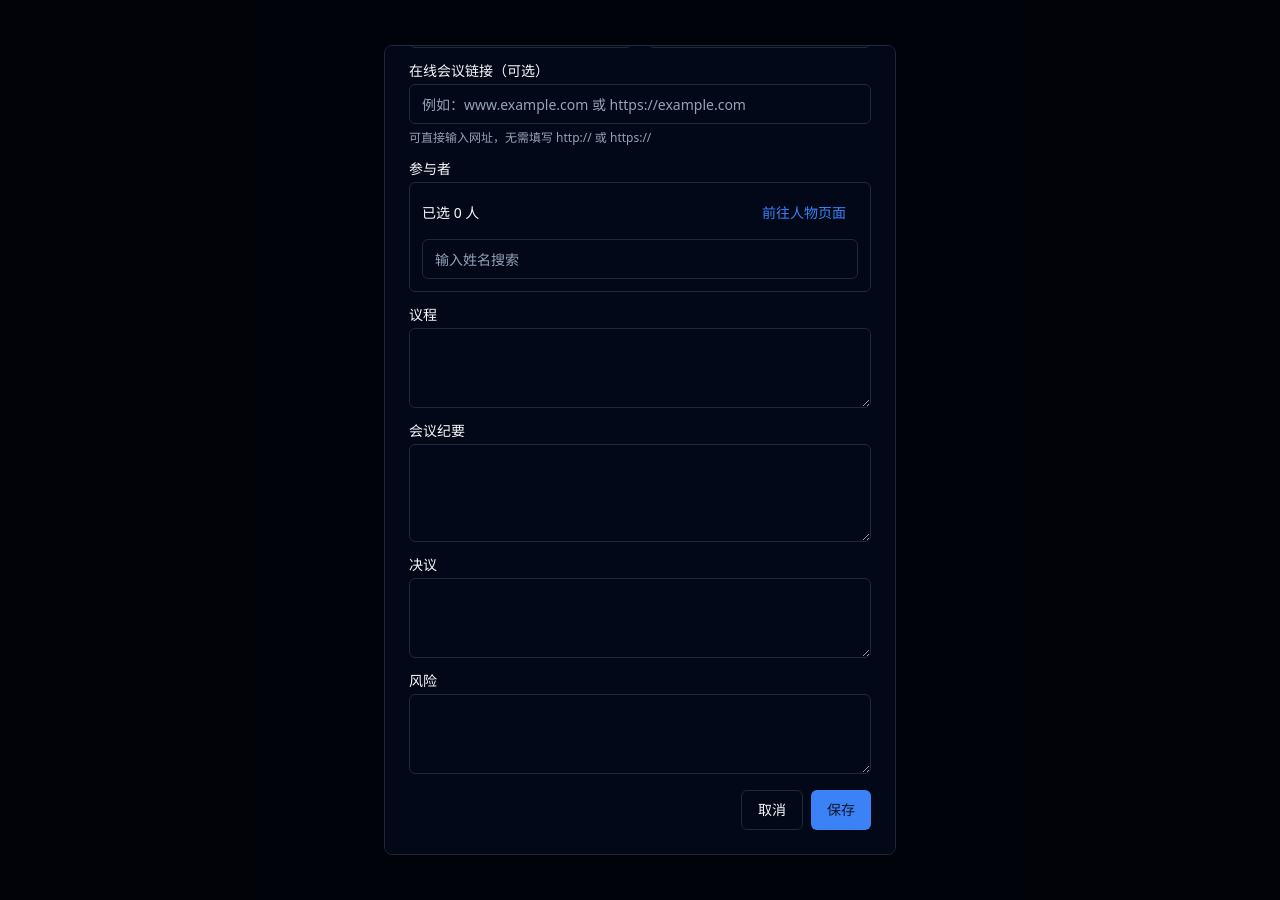
Test: MeetingForm › rejects an empty topic and an empty date with the Chinese schema messages
(page scrolled)
Click the button "保存" at {"x": 841, "y": 810}, box [811,790,871,830]
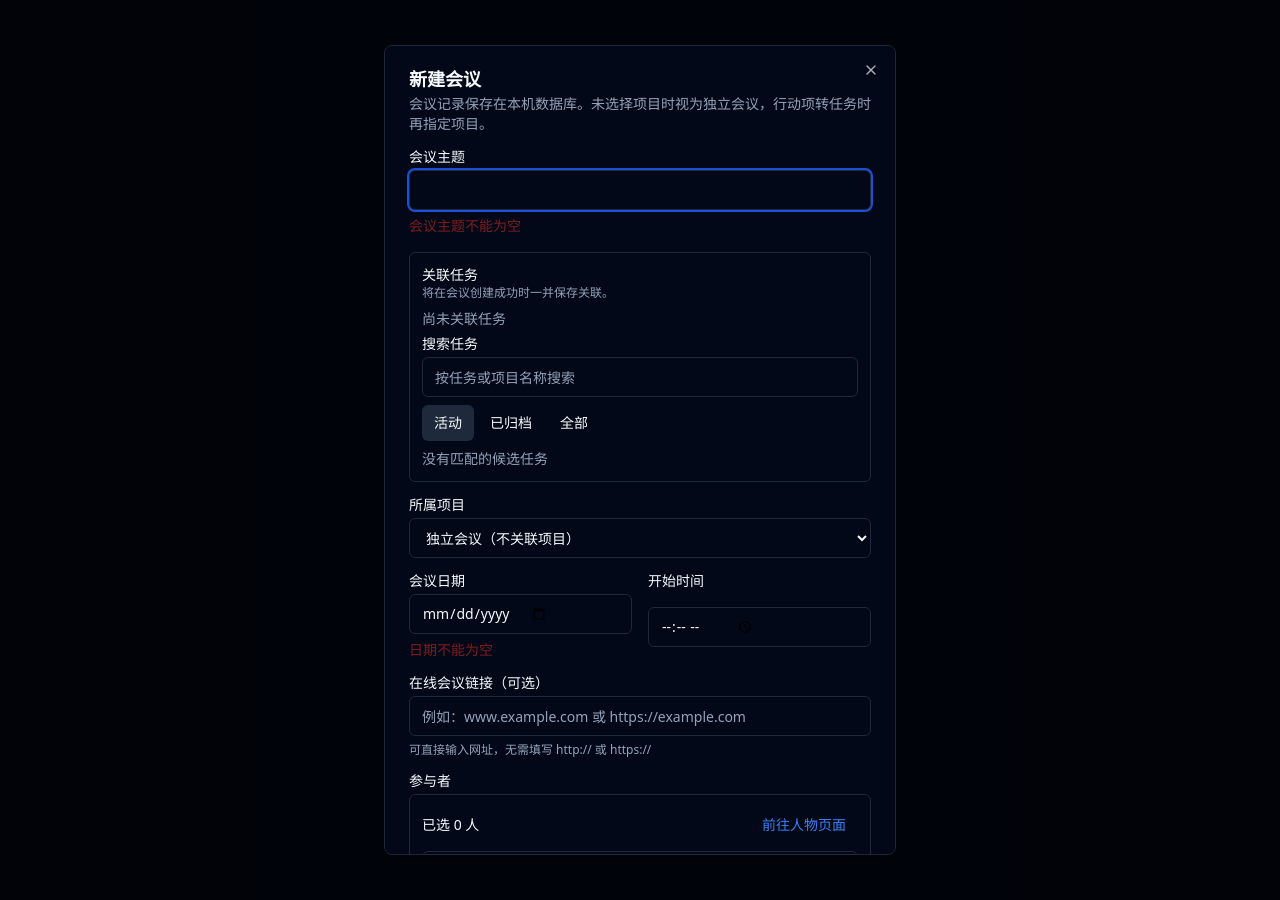
Check: the text "会议主题不能为空" is shown, box [409,216,521,235]
Check: the text "日期不能为空" is shown, box [409,640,493,659]
